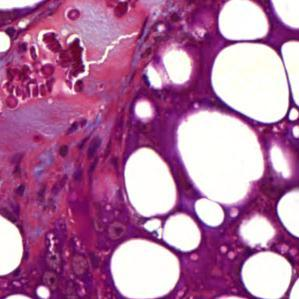steatosis: (210, 42, 293, 128), (104, 240, 183, 299), (124, 148, 183, 219), (239, 252, 297, 299), (216, 0, 270, 40)
